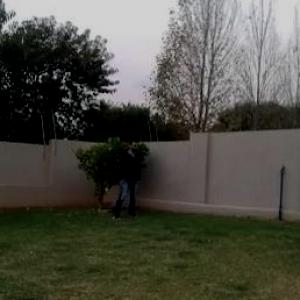follow: (118, 136, 140, 221)
